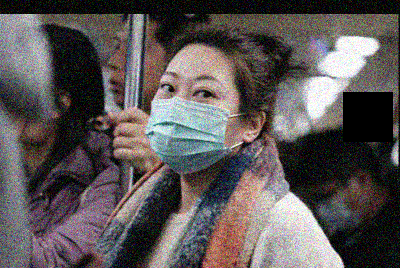with_mask: (144, 67, 242, 176), (308, 183, 363, 236)
without_mask: (104, 30, 164, 109)
